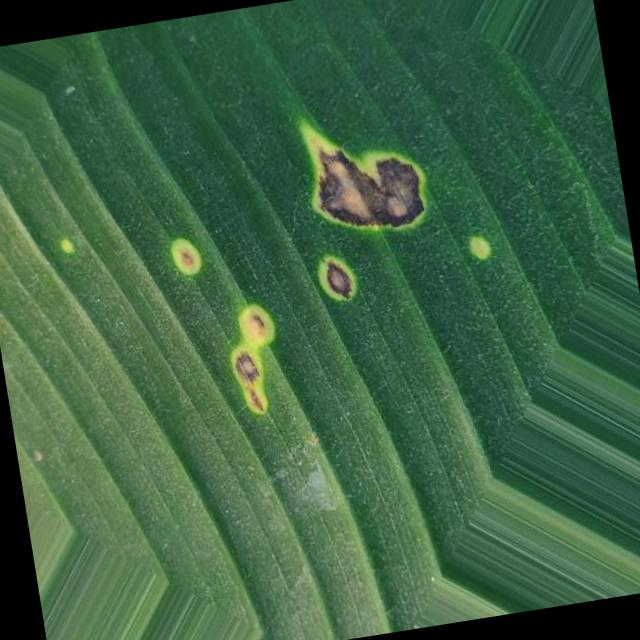Banana_Black_Sigatoka: (197, 96, 537, 362), (139, 192, 437, 437)
